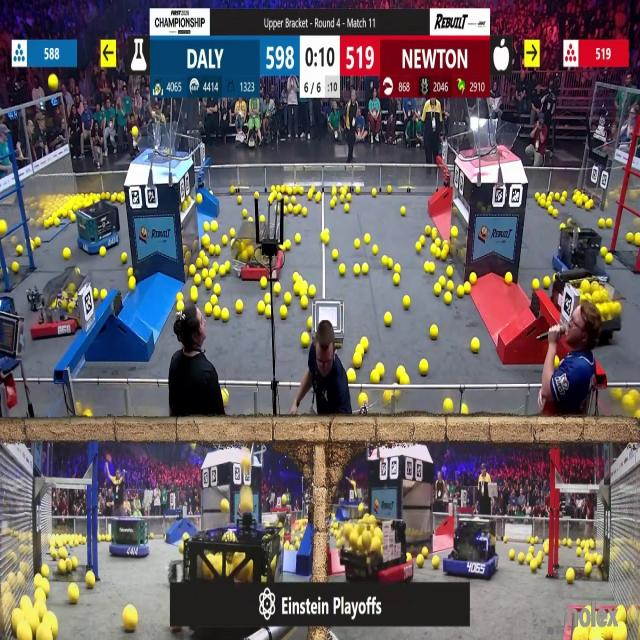ball_airborne: (241, 489, 253, 512), (48, 74, 57, 89), (0, 219, 6, 233), (221, 499, 228, 511), (133, 128, 139, 138)
ball_ground: (125, 608, 138, 633), (69, 586, 79, 604), (86, 572, 96, 588), (470, 339, 479, 353), (445, 398, 454, 412), (354, 353, 362, 368), (296, 283, 306, 295), (59, 560, 68, 573), (615, 386, 624, 399), (302, 334, 310, 348), (429, 324, 437, 338), (420, 360, 428, 374), (360, 338, 368, 352), (384, 391, 393, 403), (384, 313, 392, 326), (566, 569, 574, 582), (348, 371, 356, 384), (213, 304, 221, 317), (504, 273, 512, 285), (280, 307, 288, 319), (370, 372, 378, 384), (530, 560, 538, 572), (60, 548, 68, 560), (402, 295, 409, 308), (221, 309, 228, 322), (460, 406, 468, 417), (392, 275, 400, 286), (187, 266, 195, 277), (237, 302, 244, 314), (340, 265, 347, 277), (432, 557, 439, 569), (190, 290, 197, 302), (309, 285, 316, 297), (284, 292, 291, 304), (586, 563, 593, 575), (302, 296, 309, 308), (447, 280, 454, 292), (358, 393, 365, 405), (71, 558, 78, 570), (378, 364, 385, 376), (205, 305, 212, 317), (321, 232, 328, 244), (203, 236, 210, 248), (93, 287, 100, 299), (627, 234, 635, 244), (400, 375, 408, 385), (274, 283, 282, 293), (396, 365, 404, 375), (208, 270, 216, 280), (130, 277, 136, 290), (11, 264, 18, 275), (266, 308, 273, 319), (447, 268, 454, 279), (532, 279, 539, 290), (203, 256, 210, 267), (442, 248, 449, 259), (543, 277, 549, 289), (64, 248, 70, 260), (428, 265, 436, 274), (43, 583, 49, 595), (572, 631, 580, 640), (354, 266, 361, 276), (434, 284, 441, 294), (211, 294, 218, 304), (605, 254, 612, 264), (211, 220, 218, 230), (213, 284, 220, 294), (452, 228, 459, 238), (259, 278, 266, 288), (193, 276, 200, 286), (205, 279, 212, 289), (586, 201, 593, 211), (292, 206, 299, 216), (213, 264, 220, 274), (258, 303, 264, 314), (446, 292, 452, 303), (464, 283, 470, 294), (284, 240, 290, 251), (418, 556, 424, 567), (101, 288, 107, 299), (458, 286, 464, 297), (42, 566, 48, 577), (198, 195, 204, 206), (83, 411, 91, 419), (177, 303, 184, 312), (507, 551, 514, 560), (362, 265, 368, 275), (354, 240, 360, 250), (371, 245, 377, 255), (35, 238, 41, 248), (308, 318, 314, 328), (469, 274, 475, 284), (331, 250, 337, 260), (100, 246, 106, 256), (294, 234, 300, 244), (224, 263, 230, 273), (424, 225, 430, 235), (606, 218, 612, 228), (519, 554, 525, 564), (205, 221, 211, 231), (416, 242, 422, 252), (202, 269, 208, 279), (598, 218, 604, 228), (282, 206, 288, 216), (383, 256, 389, 266), (219, 268, 225, 278), (430, 230, 436, 240), (118, 192, 124, 202), (346, 192, 352, 202), (585, 553, 591, 563), (555, 356, 560, 367), (388, 261, 393, 272), (635, 235, 640, 246), (394, 265, 400, 274), (266, 293, 272, 302), (435, 248, 441, 257), (231, 230, 237, 239), (600, 247, 606, 256), (290, 194, 296, 203), (441, 277, 447, 286), (197, 261, 203, 270), (422, 546, 428, 555), (407, 554, 413, 563), (121, 252, 126, 262), (364, 235, 369, 245), (16, 245, 21, 255), (316, 192, 321, 202), (222, 236, 227, 246), (543, 543, 548, 553), (177, 292, 183, 300), (292, 274, 298, 282), (303, 208, 309, 216), (539, 200, 545, 208), (555, 191, 561, 199), (277, 194, 283, 202), (355, 186, 361, 194), (70, 214, 76, 222), (237, 197, 243, 205), (534, 191, 540, 199), (434, 239, 440, 247), (284, 197, 290, 205), (215, 246, 220, 255), (345, 204, 350, 213), (309, 190, 314, 199), (210, 247, 215, 256), (576, 199, 581, 208), (395, 389, 400, 398), (111, 192, 116, 201), (180, 541, 184, 552), (420, 237, 426, 244), (231, 186, 237, 193), (243, 210, 248, 218), (425, 264, 429, 274), (259, 215, 264, 223), (371, 188, 376, 196), (329, 202, 334, 210), (576, 549, 581, 557), (529, 544, 534, 552), (341, 194, 346, 202), (254, 191, 259, 199), (183, 532, 188, 540), (562, 190, 567, 198), (56, 218, 61, 226), (549, 195, 554, 203), (44, 220, 49, 228), (400, 207, 404, 216), (537, 538, 541, 547), (201, 250, 206, 257), (561, 199, 566, 206), (547, 208, 552, 215), (331, 187, 336, 194), (527, 554, 532, 561), (130, 269, 134, 277), (388, 185, 392, 193), (561, 222, 565, 230), (554, 209, 558, 217), (248, 216, 252, 222), (503, 536, 507, 542), (568, 218, 572, 224)
goal: (466, 120, 521, 160), (128, 129, 187, 159)
robot_blue: (448, 518, 498, 578), (553, 226, 603, 278), (77, 202, 120, 256), (0, 293, 24, 378), (112, 517, 150, 558)
robot_red: (548, 273, 626, 344), (338, 515, 412, 586), (35, 272, 89, 337), (231, 236, 283, 280)
